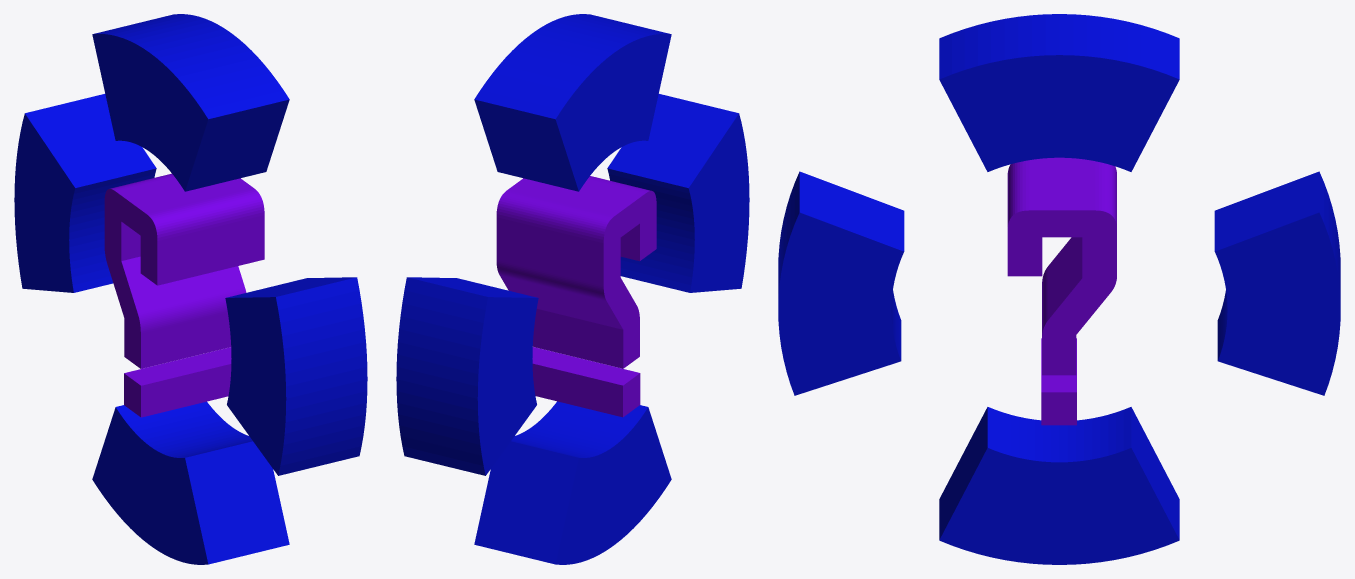
File: HintMarker.fbx
3 views of the same model, side by side, from view 1: azimuth 30°, elevation 25°; view 2: azimuth 150°, elevation 25°; view 3: azimuth 270°, elevation 25° (orthographic). The views are drawn at different scales.
Visible parts, largest first — view 1: Border, QMark; view 2: Border, QMark; view 3: Border, QMark.
Part boxes in pixels (box(x1,y1,x2,y2)): Border: box(14, 14, 367, 564); QMark: box(104, 173, 264, 417); Border: box(396, 14, 749, 564); QMark: box(496, 176, 656, 417); Border: box(778, 14, 1340, 564); QMark: box(1007, 157, 1116, 425).
Bounding box in the file's own units: 34.5 × 151 × 151.
